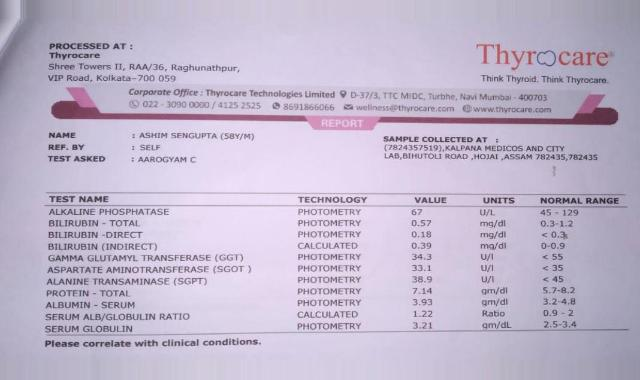Name: (136, 129, 258, 142)
Ref_By: (137, 144, 165, 153)
Reference_Range: (537, 208, 589, 331)
Technology: (294, 208, 367, 334)
Test_Asked: (135, 155, 202, 164)
Test_Name: (45, 203, 259, 336)
Unit: (473, 207, 521, 331)
Value: (407, 206, 450, 332)
